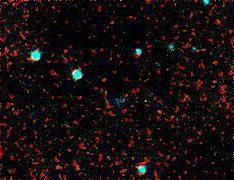star: (131, 90, 161, 120)
